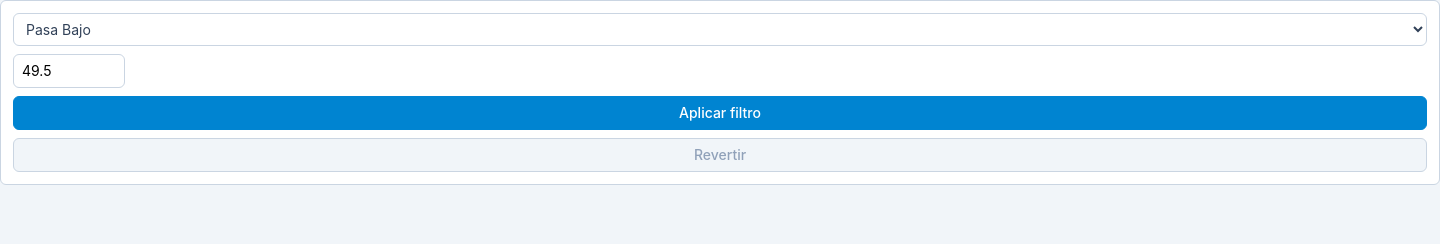
Test case: FilterPanel › AC-03: seleccionar "Notch" muestra los campos prellenados con 50/60
Step 1. Select "Notch" in the dropdown named "Tipo de filtro" → [720, 30], box x1=13 y1=13 x2=1427 y2=46
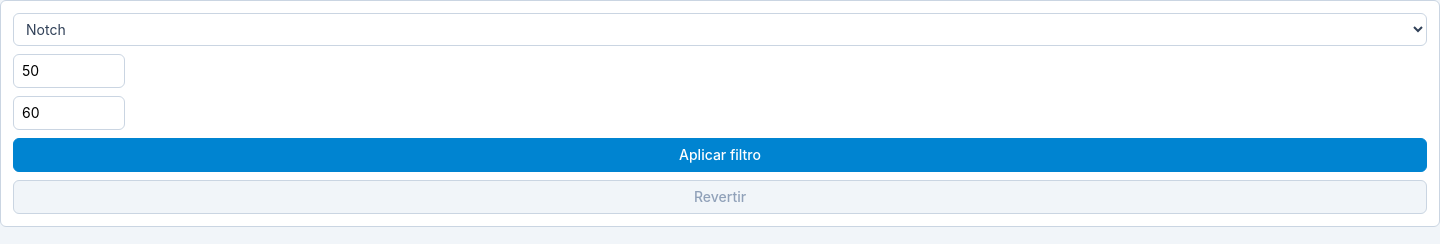
Result: the number field named "Frecuencia de corte baja (Hz)" holds "50" at x1=13 y1=54 x2=125 y2=88
Result: the number field named "Frecuencia de corte alta (Hz)" holds "60" at x1=13 y1=96 x2=125 y2=130
